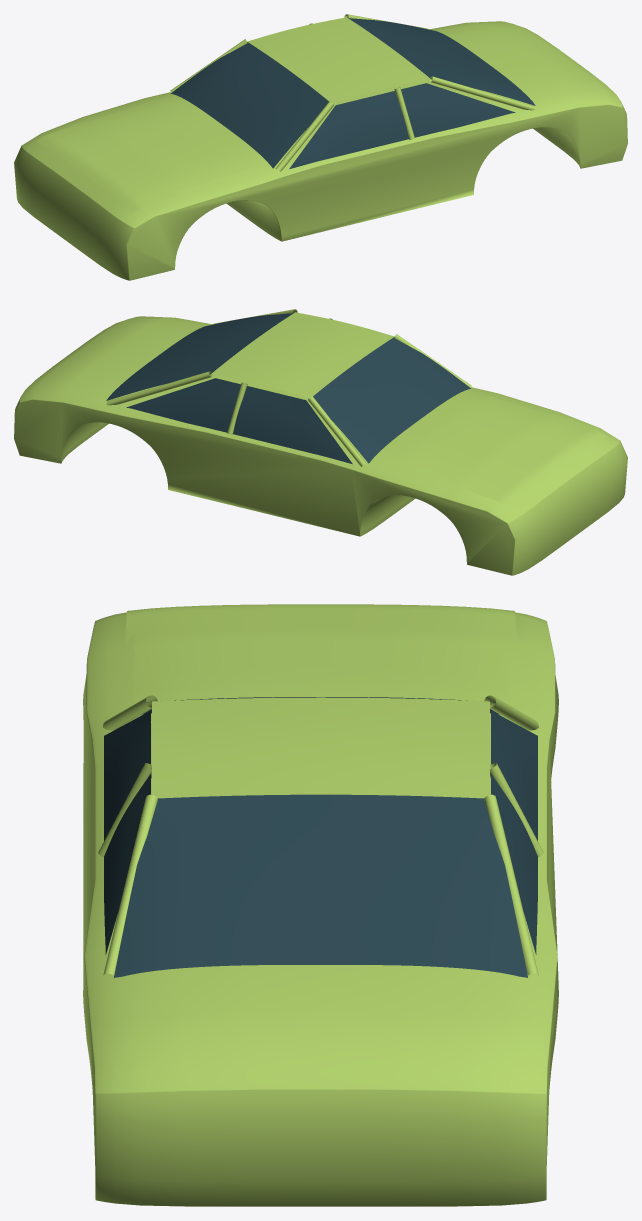
File: coachwork-v2.glb
The picture shows the model from 3 angles, top to bottom: view 1: azimuth 30°, elevation 25°; view 2: azimuth 150°, elevation 25°; view 3: azimuth 270°, elevation 25°; orthographic projection. The views are drawn at different scales.
Parts seen in each view (by area): view 1: body_shell, hood_surface, front_glass, roof_surface, right_glass, rear_glass, pillar_right0.69, pillar_right-0.99; view 2: body_shell, hood_surface, front_glass, roof_surface, left_glass, rear_glass, pillar_left0.69, pillar_left-0.99; view 3: body_shell, rear_glass, hood_surface, roof_surface, right_glass, left_glass, pillar_right0.69, pillar_left0.69.
Boxes of the visible parts, x1,y1,x2,y2 form: body_shell: (14,21,627,280); hood_surface: (36,94,279,212); front_glass: (171,42,328,168); roof_surface: (247,17,430,102); right_glass: (289,83,515,169); rear_glass: (347,17,535,105); pillar_right0.69: (429,76,535,110); pillar_right-0.99: (275,101,333,171); body_shell: (14,316,627,575); hood_surface: (362,389,605,507); front_glass: (313,337,470,463); roof_surface: (211,312,394,397); left_glass: (126,378,352,464); rear_glass: (106,312,294,400); pillar_left0.69: (106,371,212,405); pillar_left-0.99: (308,396,366,466); body_shell: (83,612,558,1206); rear_glass: (114,794,527,977); hood_surface: (123,604,518,725); roof_surface: (152,697,489,798); right_glass: (104,710,150,954); left_glass: (491,710,537,954); pillar_right0.69: (103,794,157,975); pillar_left0.69: (484,794,538,975).
Size of the model in its own units: 5.27 by 1.16 by 2.11.
